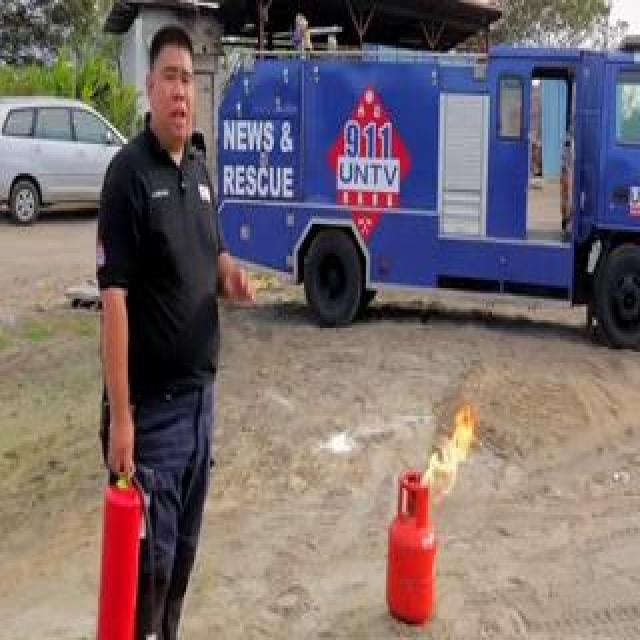Fire: (411, 417, 461, 500)
